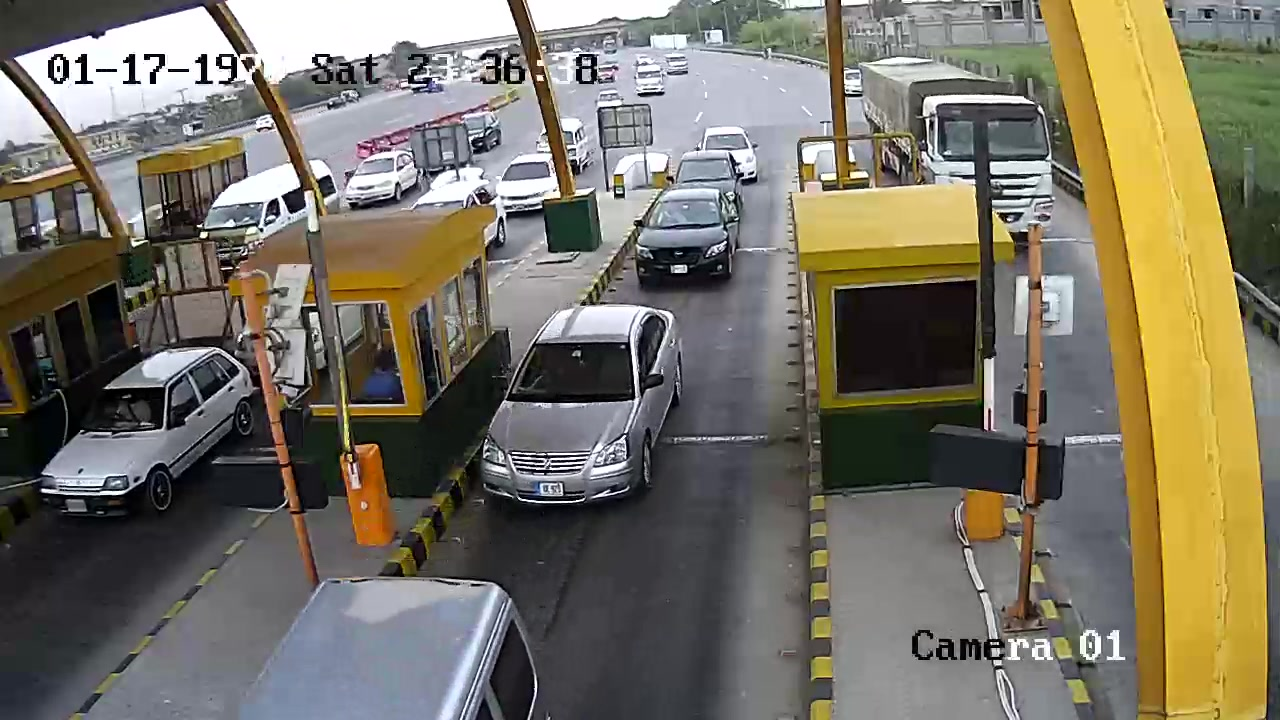F1: (471, 296, 695, 524), (628, 182, 747, 290)
